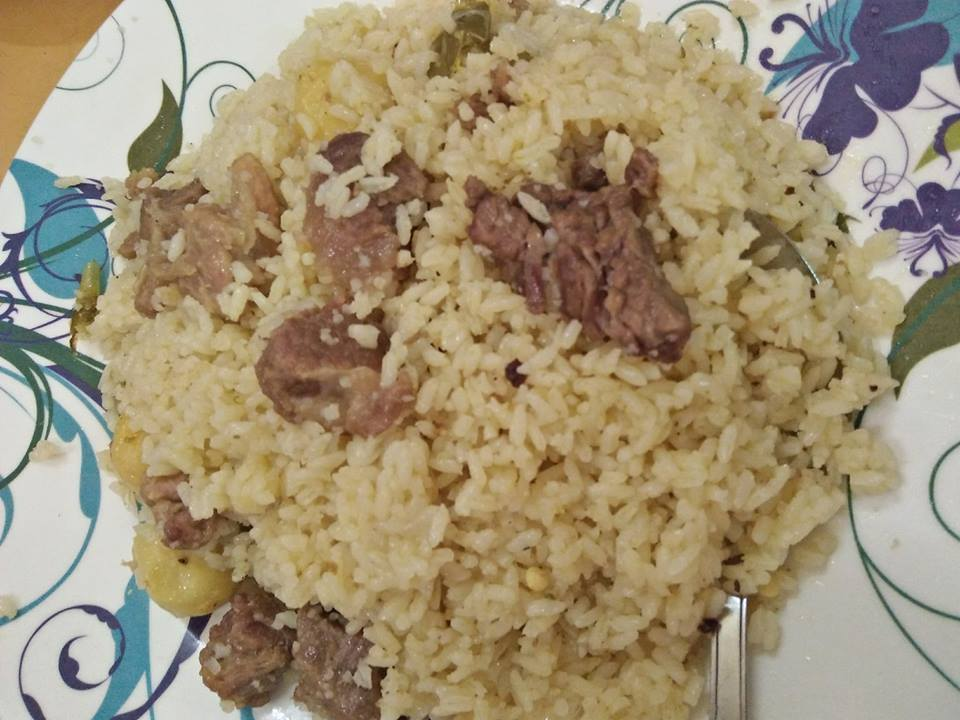tehari: (84, 9, 869, 718)
